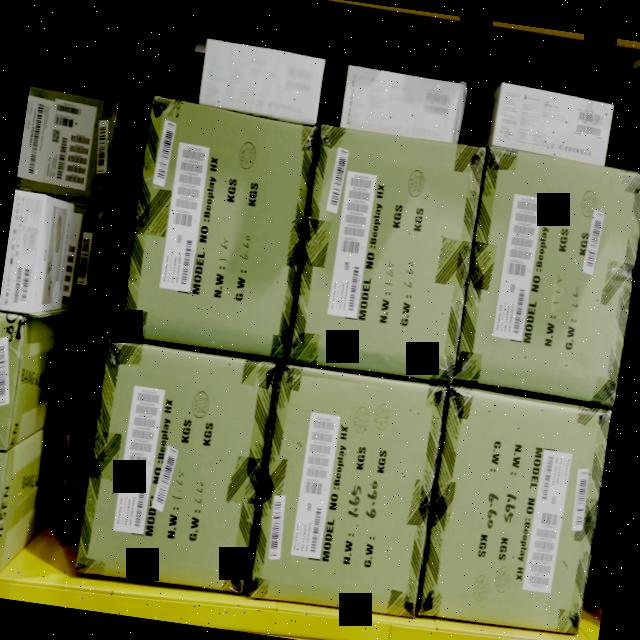box: (122, 98, 321, 360), (288, 128, 484, 382), (76, 342, 274, 592), (252, 367, 446, 618), (420, 389, 608, 633), (455, 155, 640, 400), (199, 44, 325, 119), (341, 68, 462, 143), (494, 92, 612, 162)
